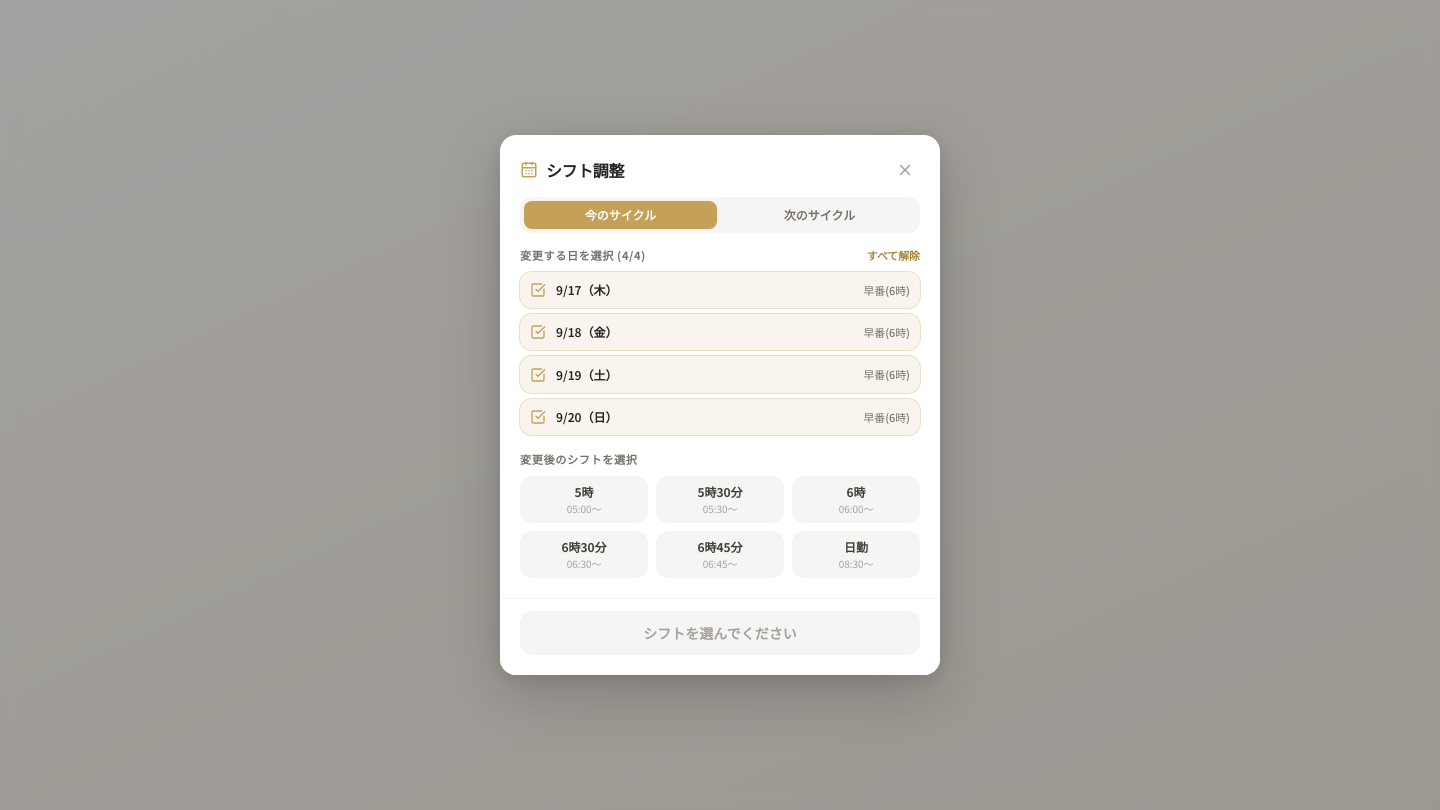
Test: ShiftGoogleAdjustModal コンポーネント › 「日勤」を選択すると時間の記入欄（開始・終了）が表示されること
# 「日勤」ボタンをクリック
Click the button "日勤 08:30〜": (856, 554) [792,531,920,578]
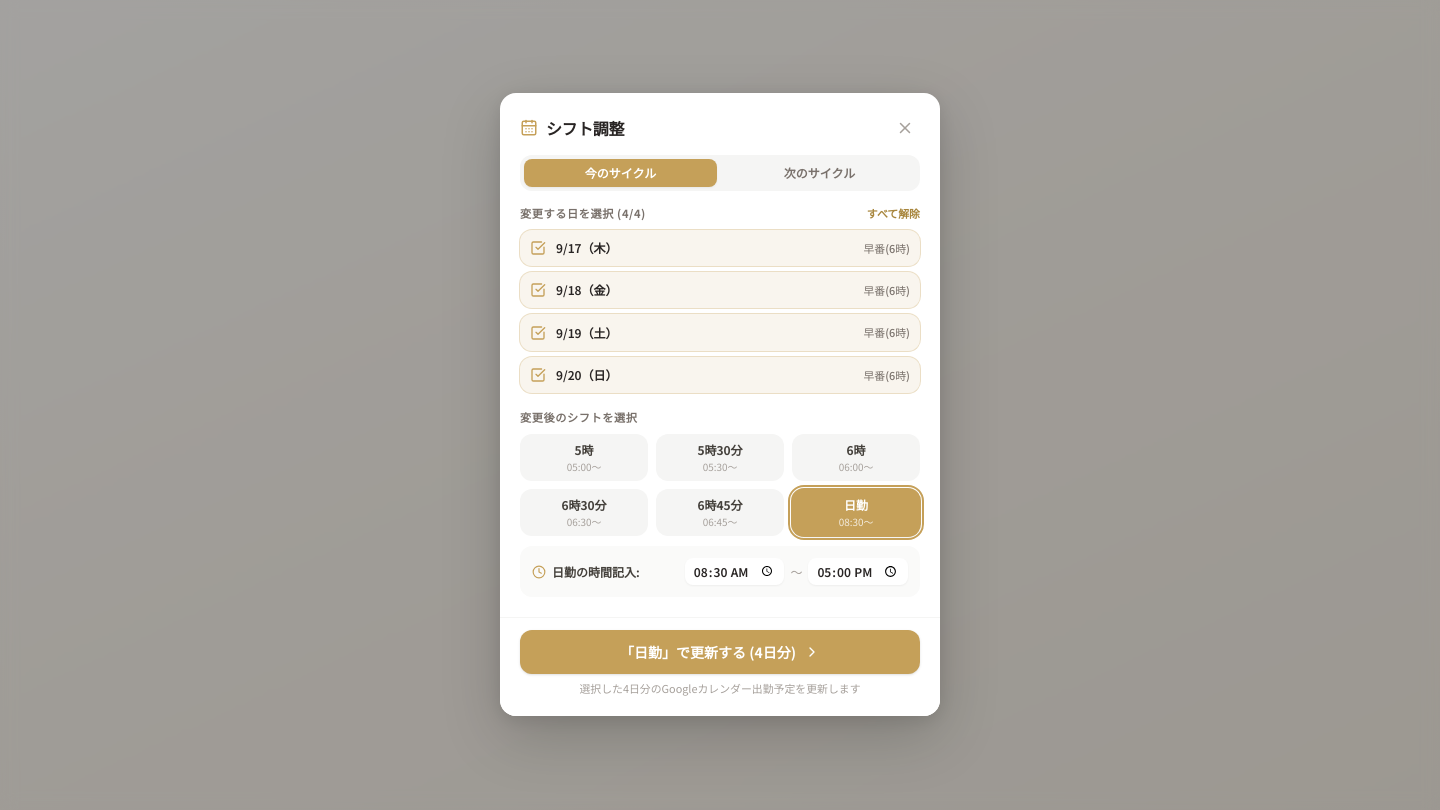
Expected: the time field named "日勤の開始時刻" holds "08:30", [685,559,784,585]
Expected: the time field named "日勤の終了時刻" holds "17:00", [808,559,908,585]
